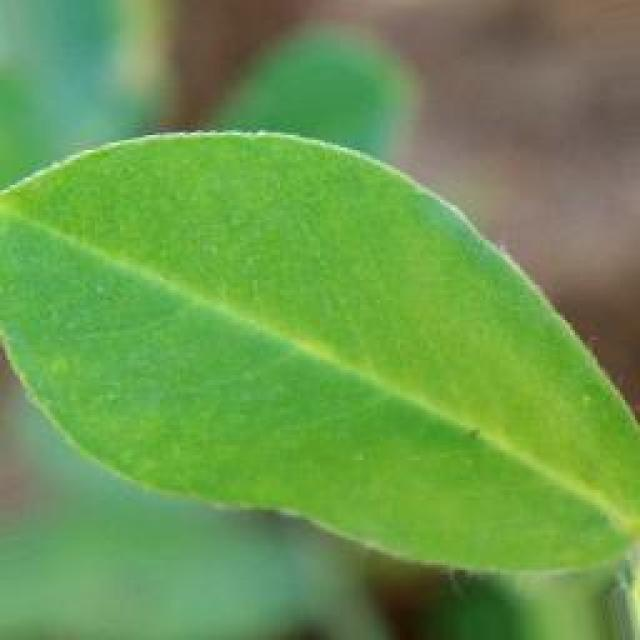Yellow_and_black_sigatoka: (0, 132, 640, 592)
